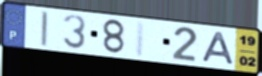2: (171, 25, 201, 64)
3: (62, 13, 87, 51)
8: (100, 17, 128, 56)
A: (201, 30, 237, 67)
I: (134, 20, 148, 59), (40, 10, 50, 48)
